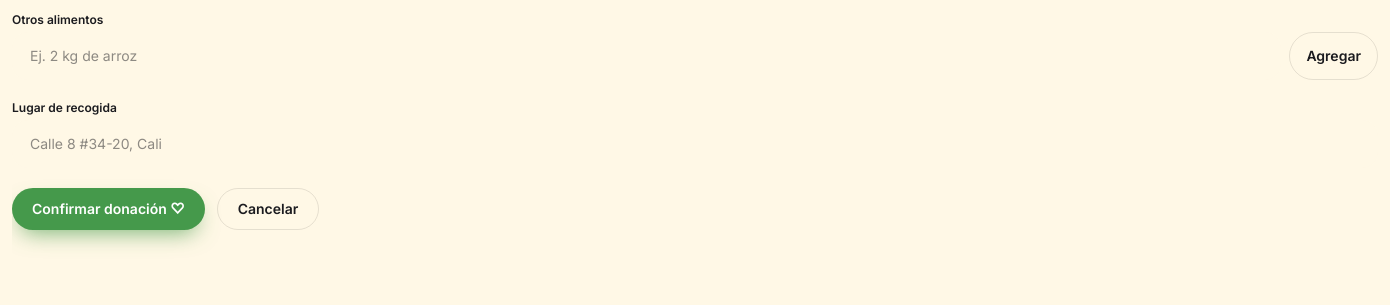
Test: shows the validation error and does not submit an empty form
Click the button "Confirmar donación ♡". click: (108, 209)
box: [12,188,205,230]
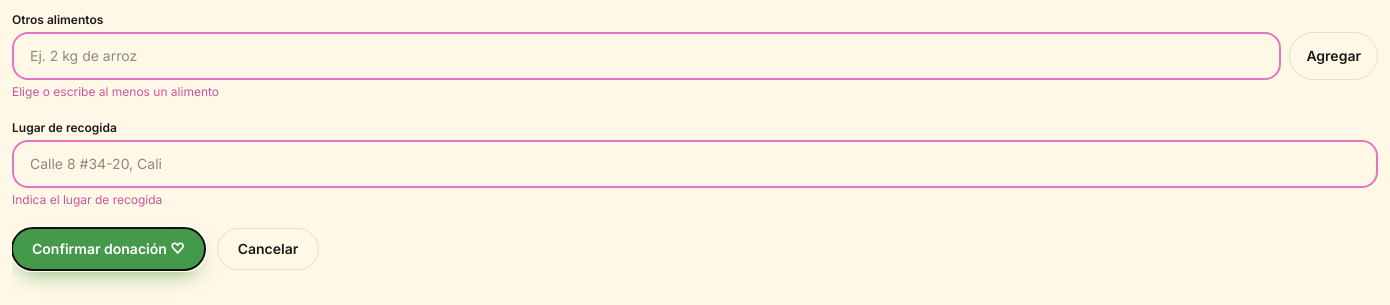
Check: the text "Elige o escribe al menos un alimento" is shown, box [12,84,219,99]
